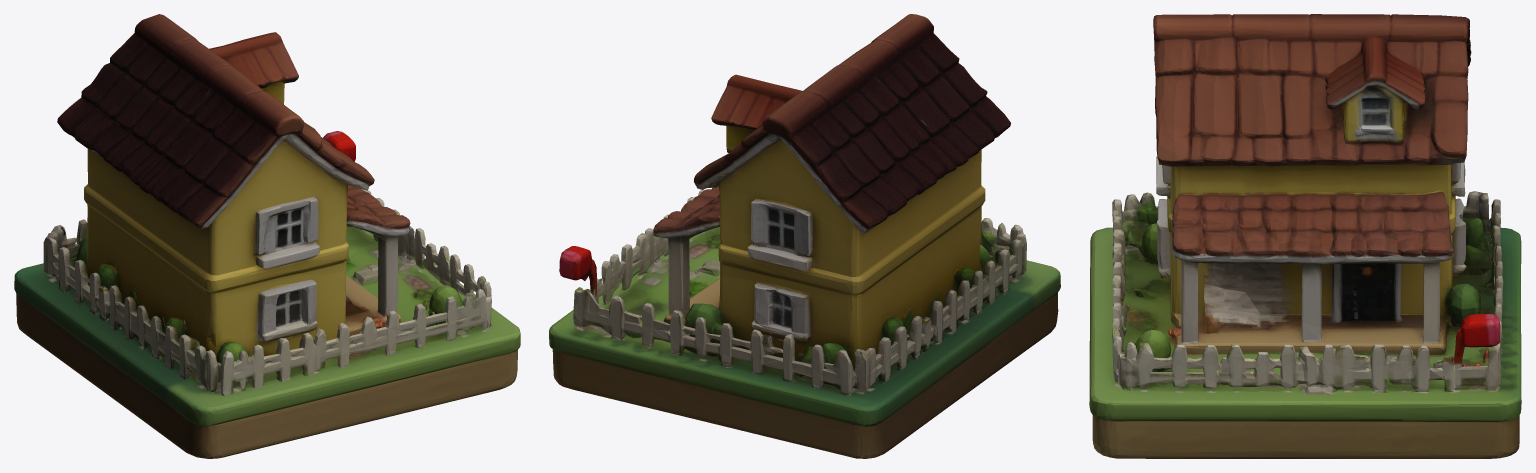
The model's file is casa_relleno_2.glb.
The picture shows the model from 3 angles, left to right: view 1: azimuth 30°, elevation 25°; view 2: azimuth 150°, elevation 25°; view 3: azimuth 270°, elevation 25°; orthographic projection. The views are drawn at different scales.
Parts seen in each view (by area): view 1: world; view 2: world; view 3: world.
Boxes of the visible parts, x1,y1,x2,y2 form: world: (14,14,520,458); world: (549,14,1060,458); world: (1089,14,1521,458).
Size of the model in its own units: 0.5992 by 0.5194 by 0.6142.
1 material, 1 textured.
